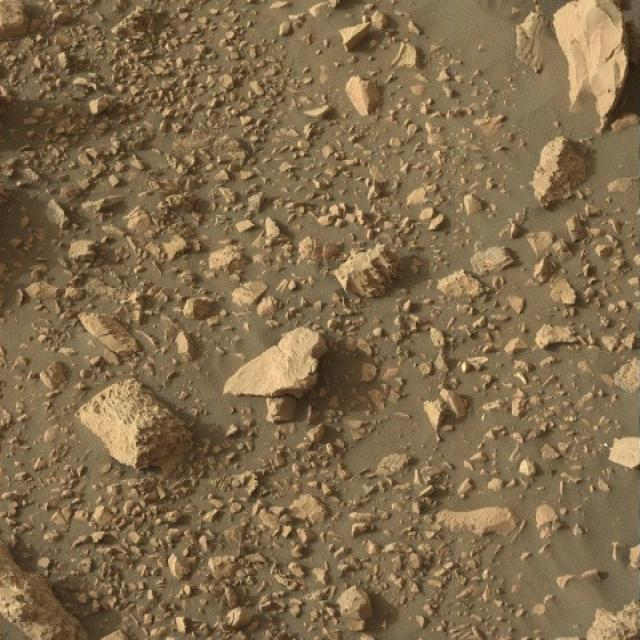mars-rocks: (77, 379, 192, 472), (554, 0, 629, 128), (223, 327, 328, 398), (533, 136, 589, 208)
